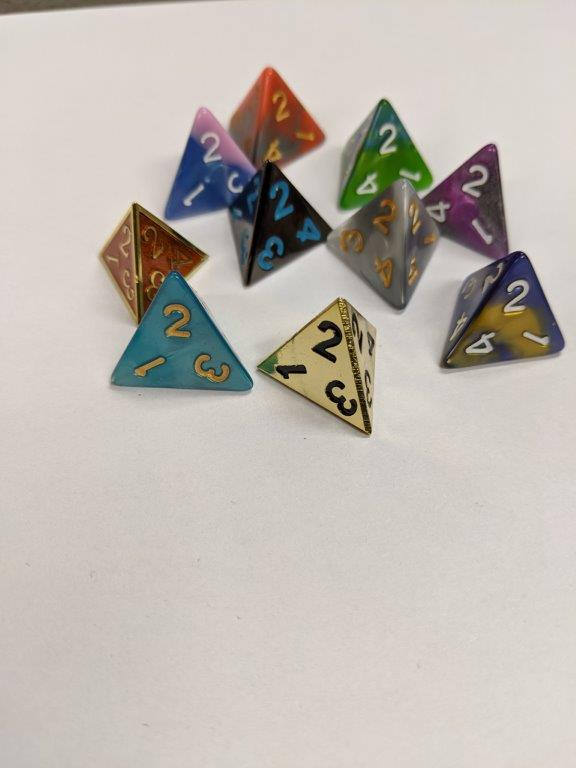d4-2: (252, 295, 381, 440), (106, 272, 252, 398), (433, 252, 567, 370), (328, 177, 437, 321), (92, 199, 209, 319), (224, 162, 330, 290), (156, 104, 260, 221), (222, 63, 330, 175), (419, 136, 510, 259), (338, 96, 433, 199)
